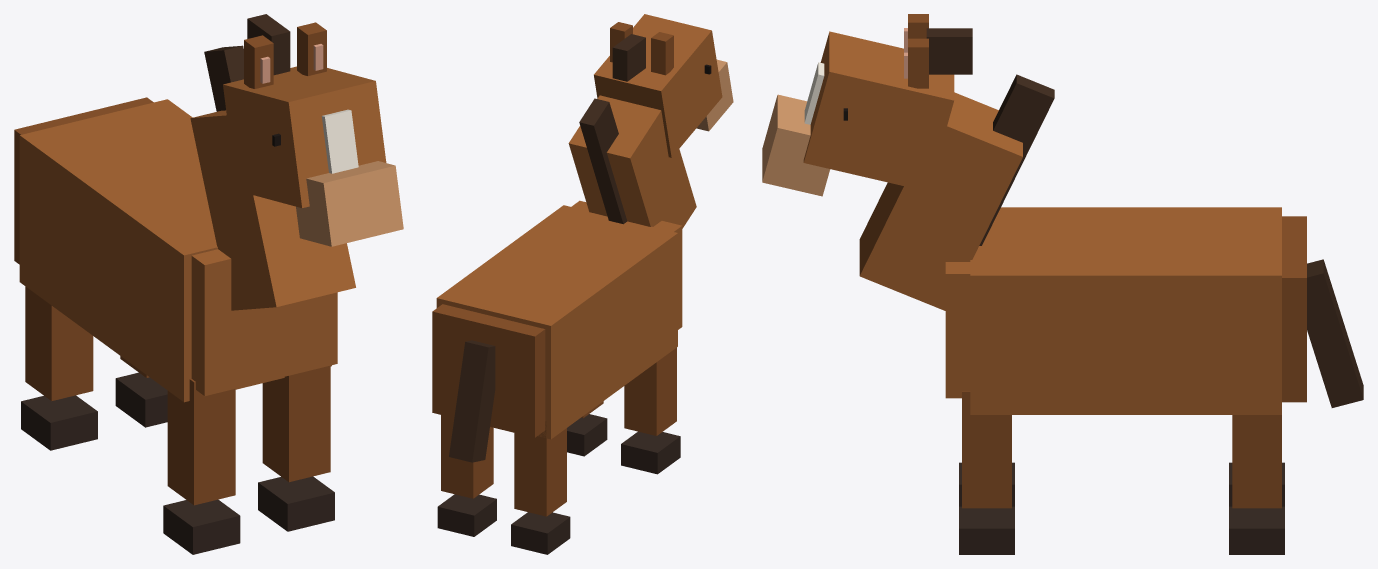
File: horse.glb
The picture shows the model from 3 angles, left to right: view 1: azimuth 30°, elevation 25°; view 2: azimuth 150°, elevation 25°; view 3: azimuth 270°, elevation 25°; orthographic projection. The views are drawn at different scales.
Size of the model in its own units: 0.78 by 2.61 by 2.9.
